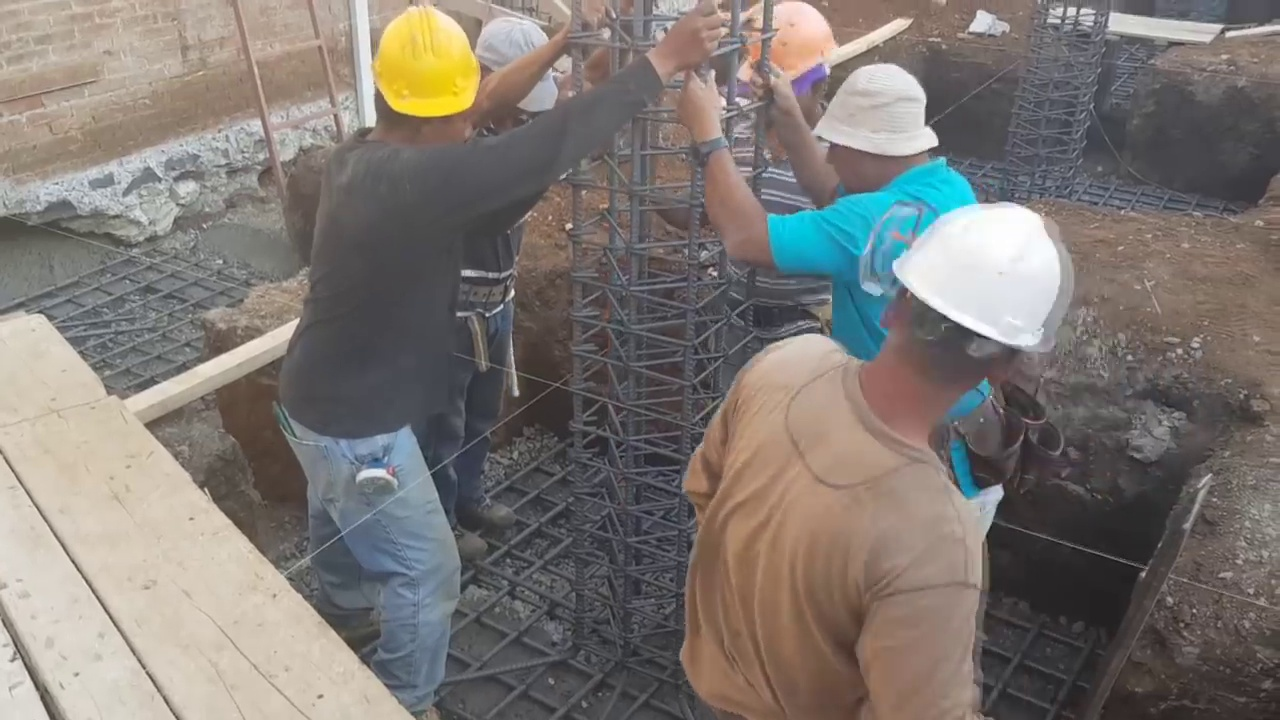helmet: (885, 203, 1068, 365), (367, 8, 481, 124), (743, 5, 837, 81)
helmet-off: (807, 65, 941, 197), (470, 10, 557, 118)
helmet-on: (848, 196, 1068, 467), (351, 67, 478, 212), (743, 4, 838, 139)
person: (273, 6, 718, 719), (671, 195, 1076, 719), (684, 63, 1028, 537), (427, 10, 621, 563), (700, 0, 840, 401)
